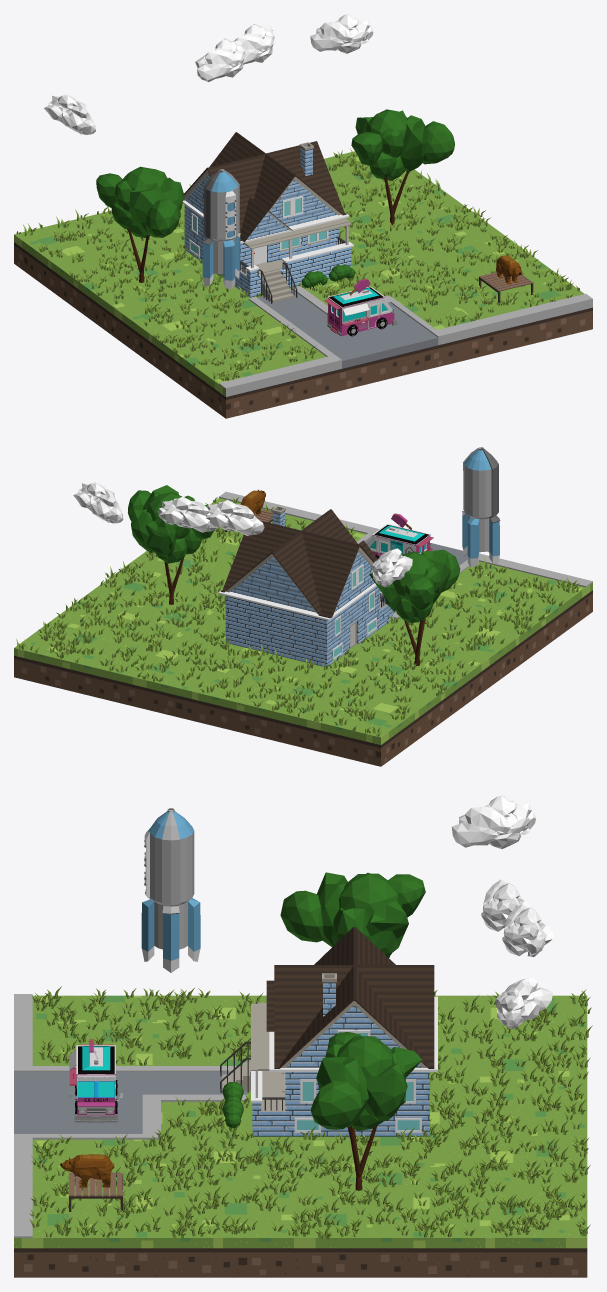
The picture shows the model from 3 angles, top to bottom: view 1: azimuth 30°, elevation 25°; view 2: azimuth 150°, elevation 25°; view 3: azimuth 270°, elevation 25°; orthographic projection. The views are drawn at different scales.
Parts seen in each view (by area): view 1: Cube.006, Circle.012_Grass_0.192, Cube.547, Cube.007, tree, tree.001, OBJRANDOM_ROCKETSHIP, VEHICLES_ICE_CREAM_TRUCK, Cube.009, ANIMAL_OSO; view 2: Cube.006, Cube.547, Circle.012_Grass_0.192, Cube.007, OBJRANDOM_ROCKETSHIP, tree.001, tree, VEHICLES_ICE_CREAM_TRUCK; view 3: Cube.006, Circle.012_Grass_0.192, Cube.547, tree, Cube.007, tree.001, OBJRANDOM_ROCKETSHIP, VEHICLES_ICE_CREAM_TRUCK, ANIMAL_OSO, Cube.009.
Boxes of the visible parts, <box> form: Cube.006: <box>14,151,592,418</box>; Circle.012_Grass_0.192: <box>16,148,579,381</box>; Cube.547: <box>182,132,353,303</box>; Cube.007: <box>44,14,373,134</box>; tree: <box>351,109,454,225</box>; tree.001: <box>96,166,183,282</box>; OBJRANDOM_ROCKETSHIP: <box>202,169,240,289</box>; VEHICLES_ICE_CREAM_TRUCK: <box>324,278,397,336</box>; Cube.009: <box>479,272,533,302</box>; ANIMAL_OSO: <box>496,255,522,284</box>; Cube.006: <box>14,491,592,766</box>; Cube.547: <box>218,506,392,666</box>; Circle.012_Grass_0.192: <box>16,497,579,736</box>; Cube.007: <box>73,482,412,587</box>; OBJRANDOM_ROCKETSHIP: <box>462,447,500,567</box>; tree.001: <box>369,549,460,665</box>; tree: <box>128,485,213,604</box>; VEHICLES_ICE_CREAM_TRUCK: <box>367,513,433,558</box>; Cube.006: <box>14,994,587,1277</box>; Circle.012_Grass_0.192: <box>29,986,592,1239</box>; Cube.547: <box>220,927,437,1136</box>; tree: <box>310,1032,422,1190</box>; Cube.007: <box>451,795,552,1029</box>; tree.001: <box>280,872,425,957</box>; OBJRANDOM_ROCKETSHIP: <box>141,808,200,972</box>; VEHICLES_ICE_CREAM_TRUCK: <box>69,1039,122,1122</box>; ANIMAL_OSO: <box>60,1154,114,1187</box>; Cube.009: <box>69,1172,122,1211</box>.
Bounding box in the file's own units: 4071 × 2179 × 4040.
42 materials, 4 textured.
